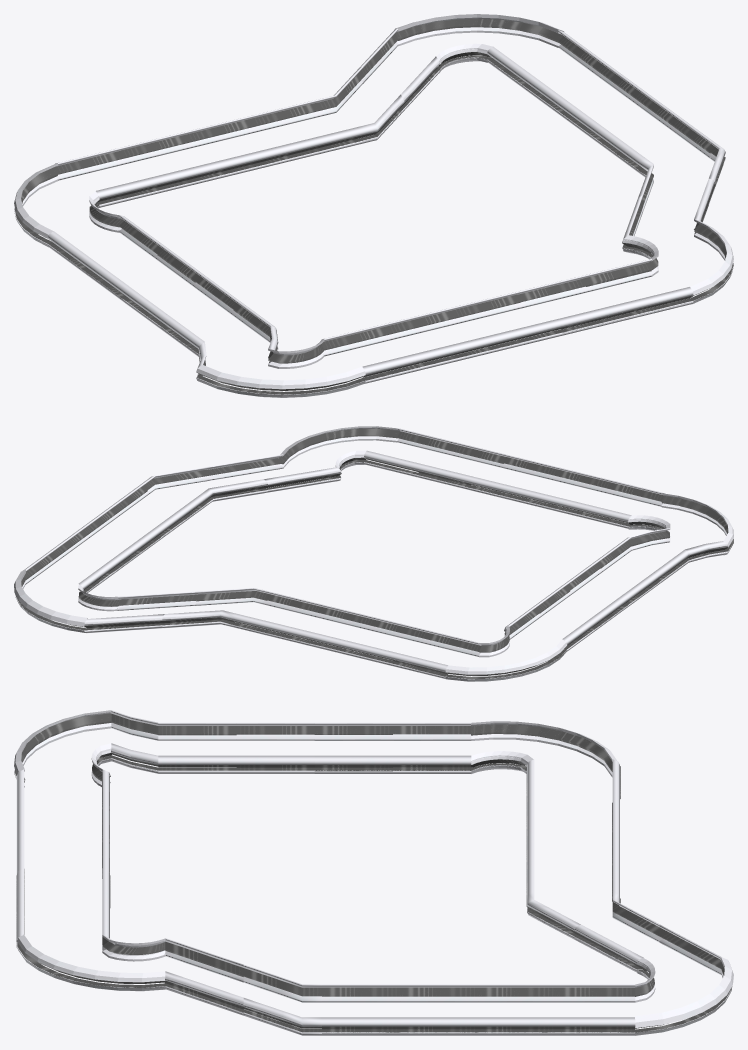
File: Road.fbx
3 views of the same model, one above another, from view 1: azimuth 30°, elevation 25°; view 2: azimuth 150°, elevation 25°; view 3: azimuth 270°, elevation 25° (orthographic). The views are drawn at different scales.
Visible parts, largest first — view 1: Side.000; view 2: Side.000; view 3: Side.000.
Part boxes in pixels (box(x1,y1,x2,y2)): Side.000: box(14, 14, 733, 397); Side.000: box(14, 426, 733, 681); Side.000: box(14, 710, 733, 1035).
Size of the model in its own units: 95 by 2.76 by 91.97.
